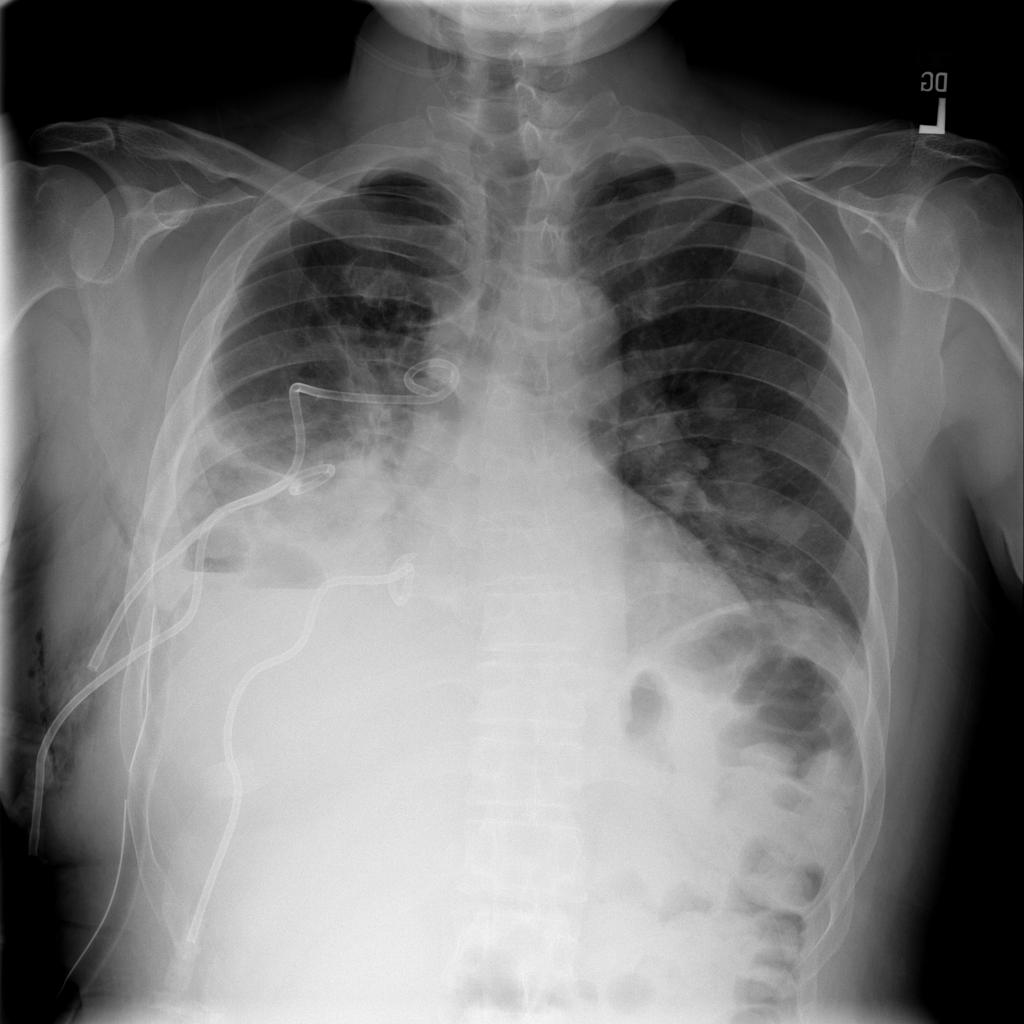nodule: (716, 215, 801, 290), (707, 432, 781, 501), (751, 491, 828, 557), (683, 363, 752, 433), (776, 365, 825, 417)
